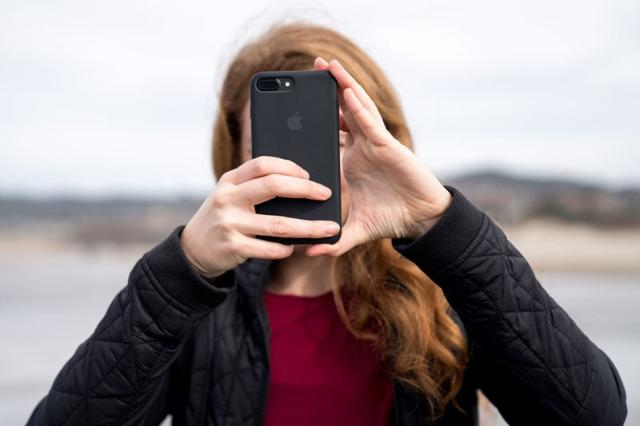phone: (250, 71, 348, 241)
